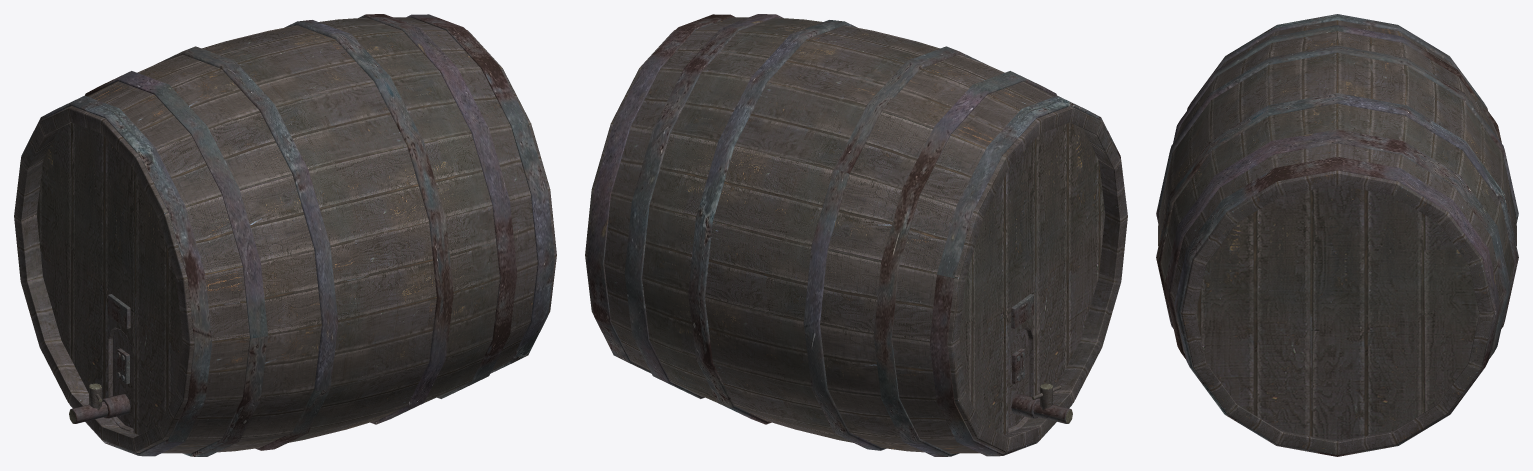
File: SM_WineCaskB.FBX
The picture shows the model from 3 angles, left to right: view 1: azimuth 30°, elevation 25°; view 2: azimuth 150°, elevation 25°; view 3: azimuth 270°, elevation 25°; orthographic projection. The views are drawn at different scales.
Visible parts, largest first — view 1: SM_VineCaskB; view 2: SM_VineCaskB; view 3: SM_VineCaskB.
Part boxes in pixels (x1=…): SM_VineCaskB: x1=14, y1=14, x2=556, y2=456; SM_VineCaskB: x1=585, y1=14, x2=1127, y2=456; SM_VineCaskB: x1=1156, y1=14, x2=1518, y2=456.
Bounding box in the file's own units: 110 × 98.95 × 98.95.
